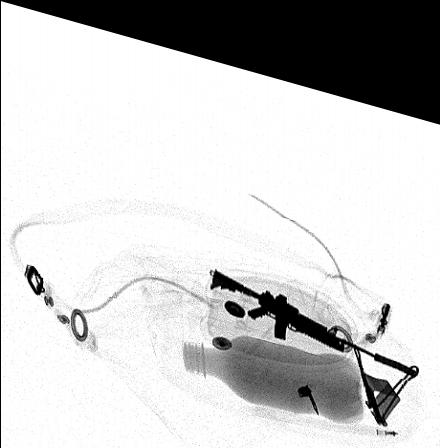Gun: (209, 255, 418, 354)
